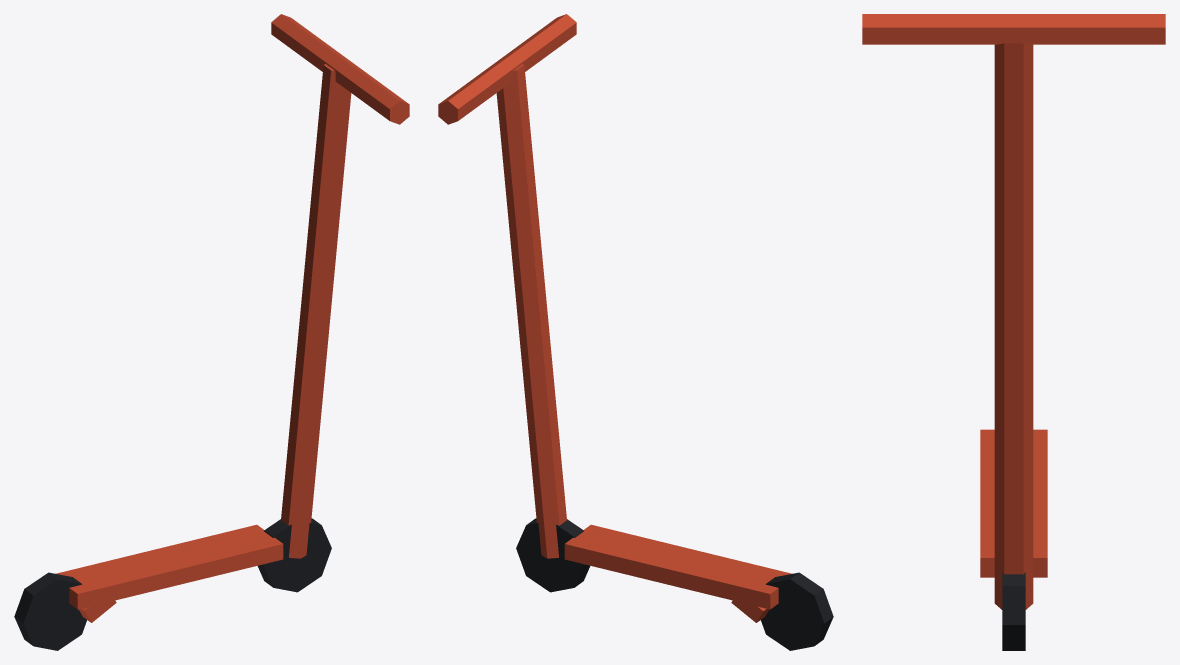
Rendered from scooter-b4b718.glb.
The picture shows the model from 3 angles, left to right: view 1: azimuth 30°, elevation 25°; view 2: azimuth 150°, elevation 25°; view 3: azimuth 270°, elevation 25°; orthographic projection. The views are drawn at different scales.
Bounding box in the file's own units: 0.5803 × 0.87 × 0.36.
